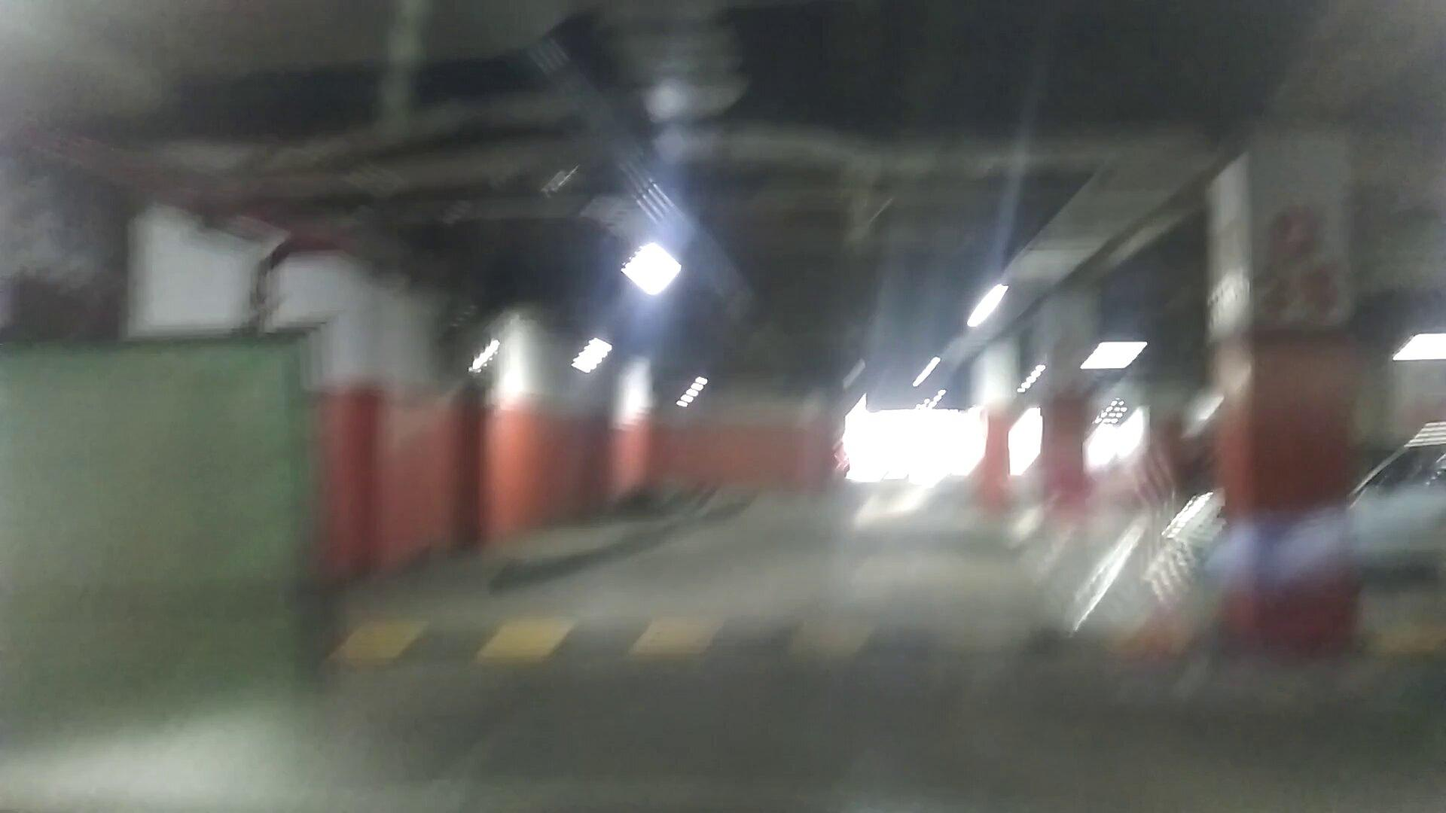Bump: (328, 608, 1201, 676)
